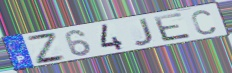4: (99, 23, 125, 52)
6: (64, 28, 93, 57)
C: (190, 9, 217, 36)
E: (151, 11, 194, 43)
J: (132, 17, 155, 47)
Z: (25, 32, 69, 66)
